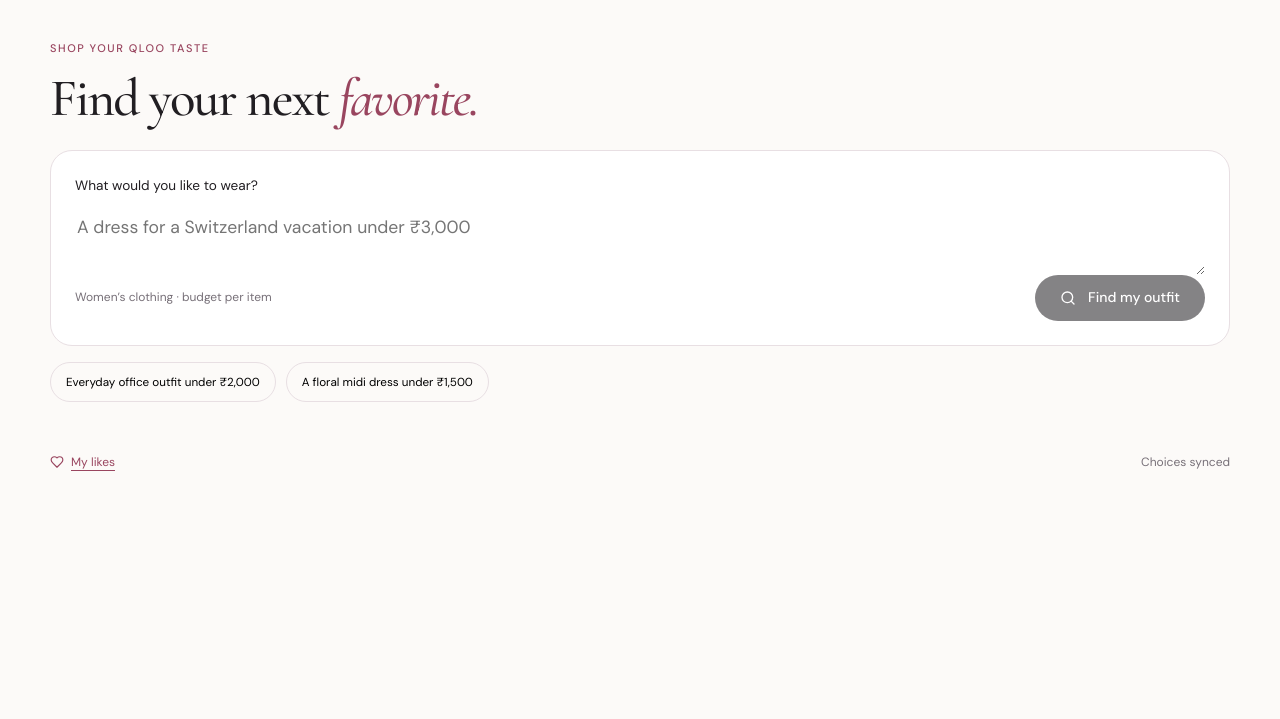
it: shows product links and snapshot pricing with a plain-English search
The image size is (1280, 719).
Expected: the button "My likes" is enabled, x1=50 y1=440 x2=115 y2=484
Type "floral dress under 1000" into the text box labelled "What would you like to wear?" at [640, 243], box x1=75 y1=211 x2=1205 y2=275
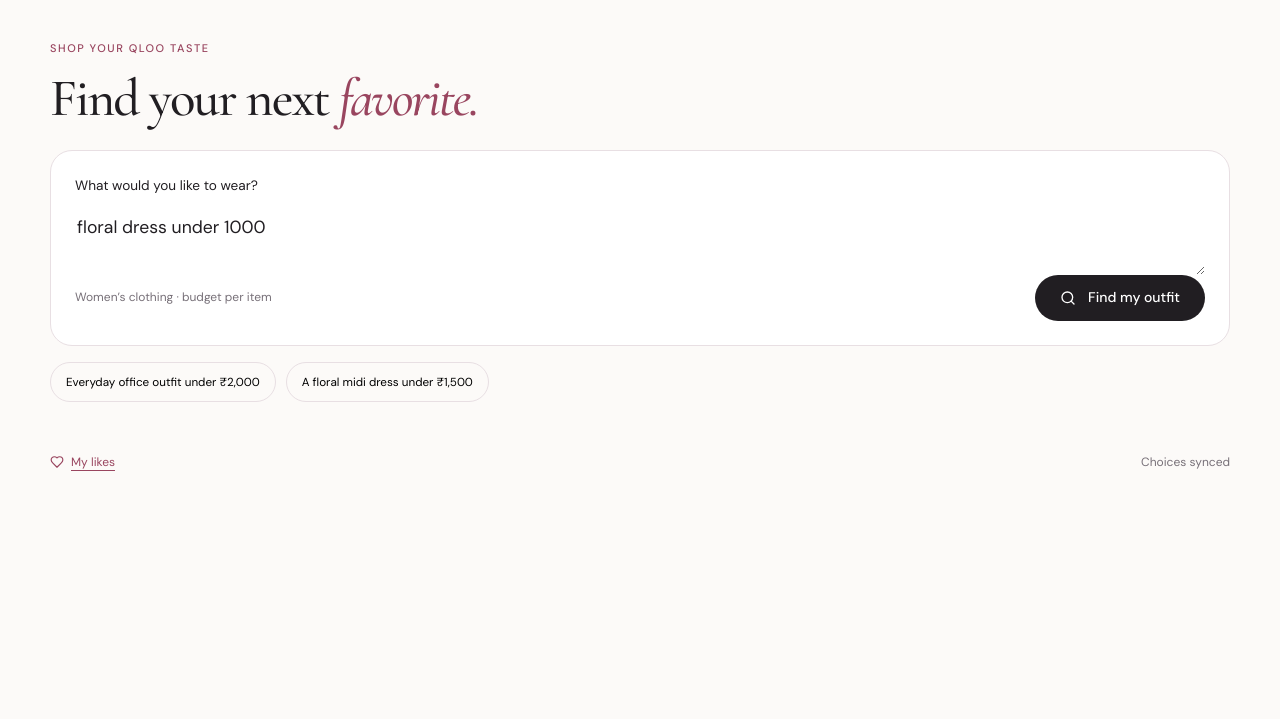
Click the button "Find my outfit" at [1120, 298], box x1=1035 y1=275 x2=1205 y2=321
(page scrolled)
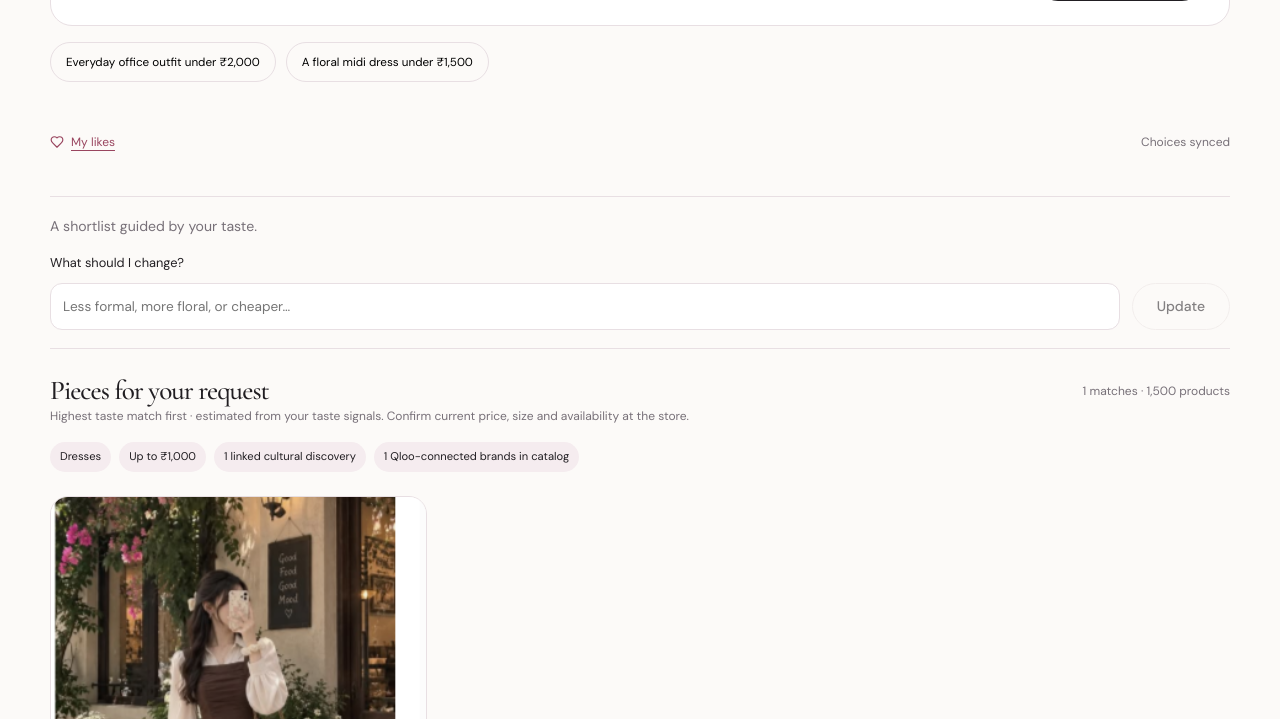
Expected: the text "confirm current price" is shown, x1=50 y1=408 x2=689 y2=424
